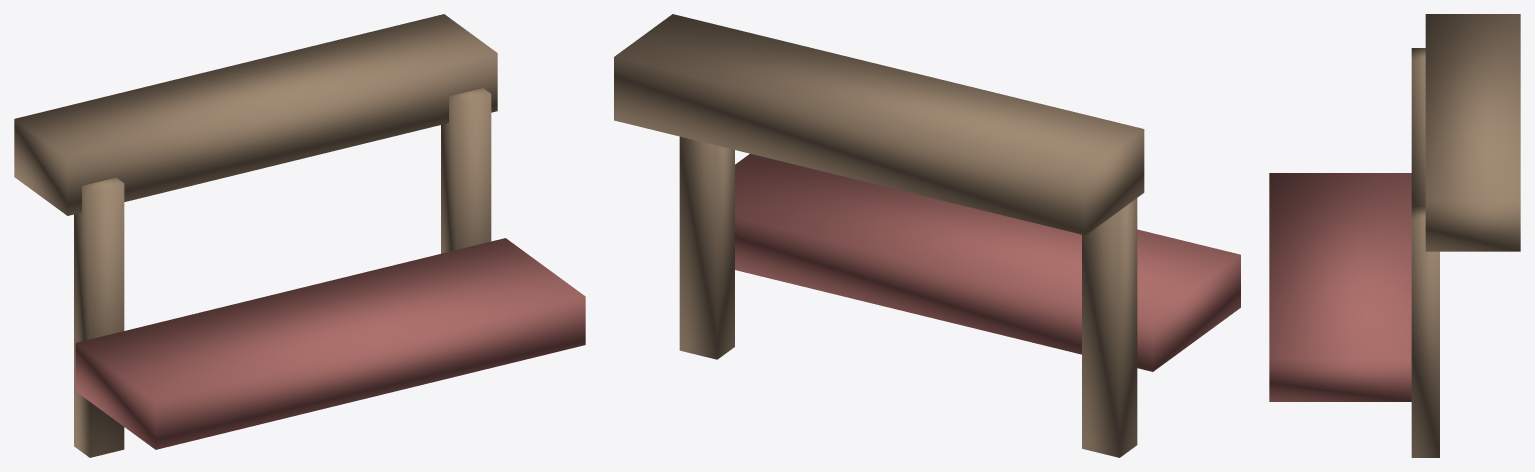
File: prayer_kneeler__wide.glb
3 renders of one model, left to right at view 1: azimuth 30°, elevation 25°; view 2: azimuth 150°, elevation 25°; view 3: azimuth 270°, elevation 25°, orthographic. The views are drawn at different scales.
Parts seen in each view (by area): view 1: world; view 2: world; view 3: world.
Part boxes in pixels (x1,y1,x2,y2): world: [14, 14, 585, 457]; world: [614, 14, 1240, 457]; world: [1269, 14, 1520, 457].
Bounding box in the file's own units: 0.93 × 0.615 × 0.53.
